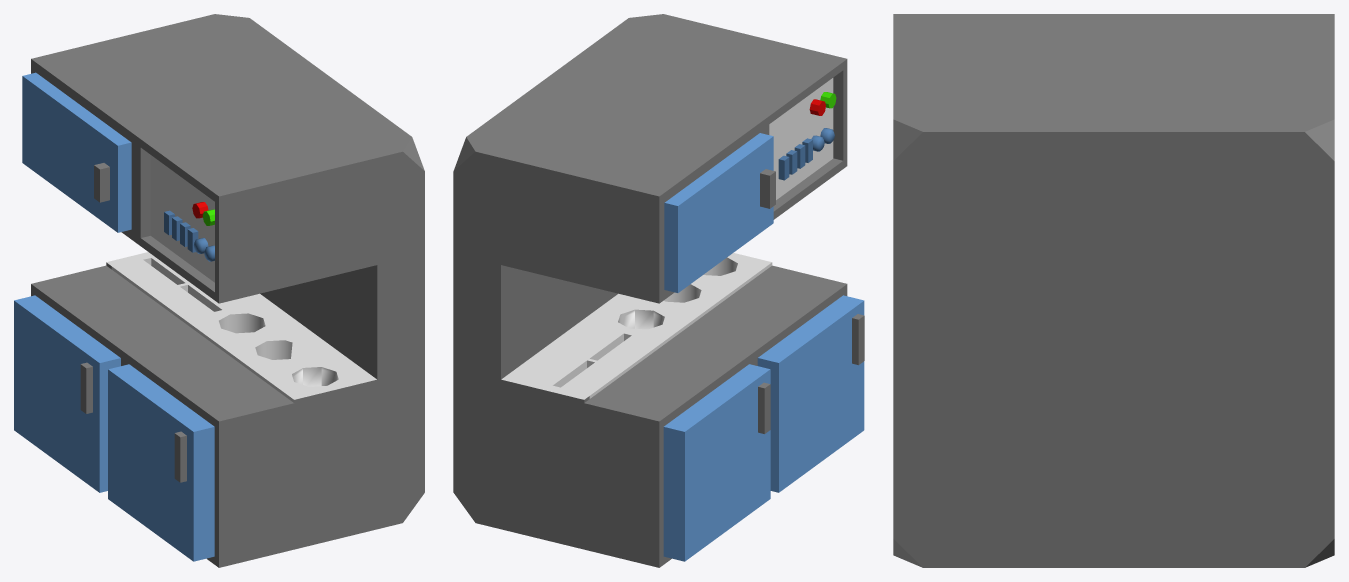
Rendered from galleykitchen.glb.
3 views of the same model, side by side, from view 1: azimuth 30°, elevation 25°; view 2: azimuth 150°, elevation 25°; view 3: azimuth 270°, elevation 25° (orthographic). The views are drawn at different scales.
Parts seen in each view (by area): view 1: Cube.054; view 2: Cube.054; view 3: Cube.054.
Boxes of the visible parts, left/top/right/bottom form: Cube.054: left=14, top=14, right=424, bottom=567; Cube.054: left=453, top=14, right=864, bottom=567; Cube.054: left=893, top=14, right=1334, bottom=567.
Size of the model in its own units: 4.32 by 6.56 by 6.02.
